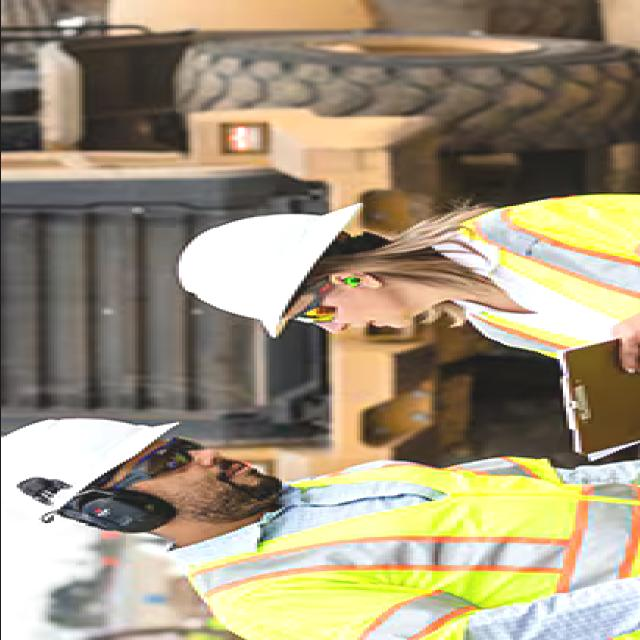Ear Muffs: (56, 492, 178, 530)
Hard Hat: (168, 192, 364, 342), (1, 416, 181, 546)
Reflective Vest: (182, 451, 634, 637), (434, 185, 640, 363)
Safety Glasses: (108, 436, 198, 492), (290, 284, 338, 325)
